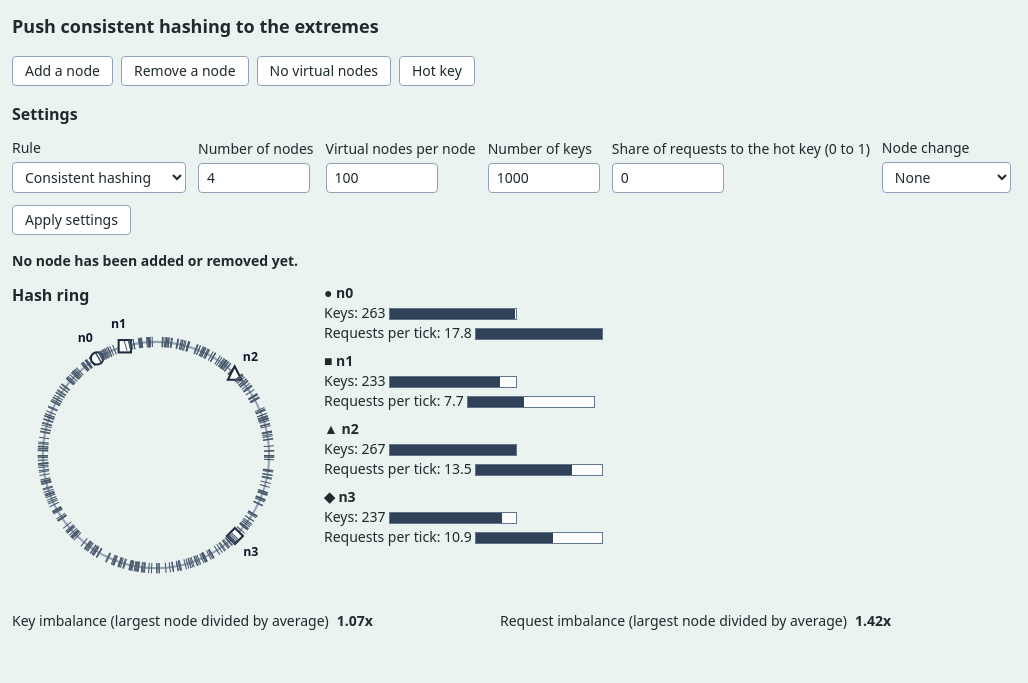
Test: HashingExtremePanel › refuses invalid settings with a message
Step 1. Replace the text in the number field labelled "Number of keys" with "0" → point(544, 178), box [488, 163, 600, 193]
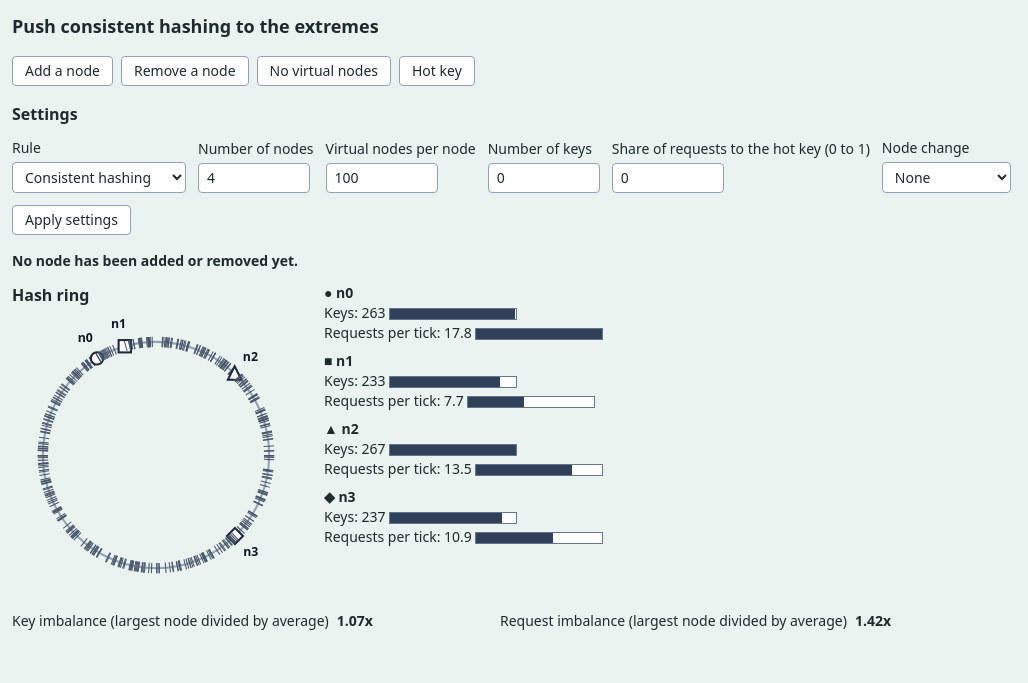
Step 2. Click the button "Apply settings" → point(71, 220), box [12, 205, 131, 235]
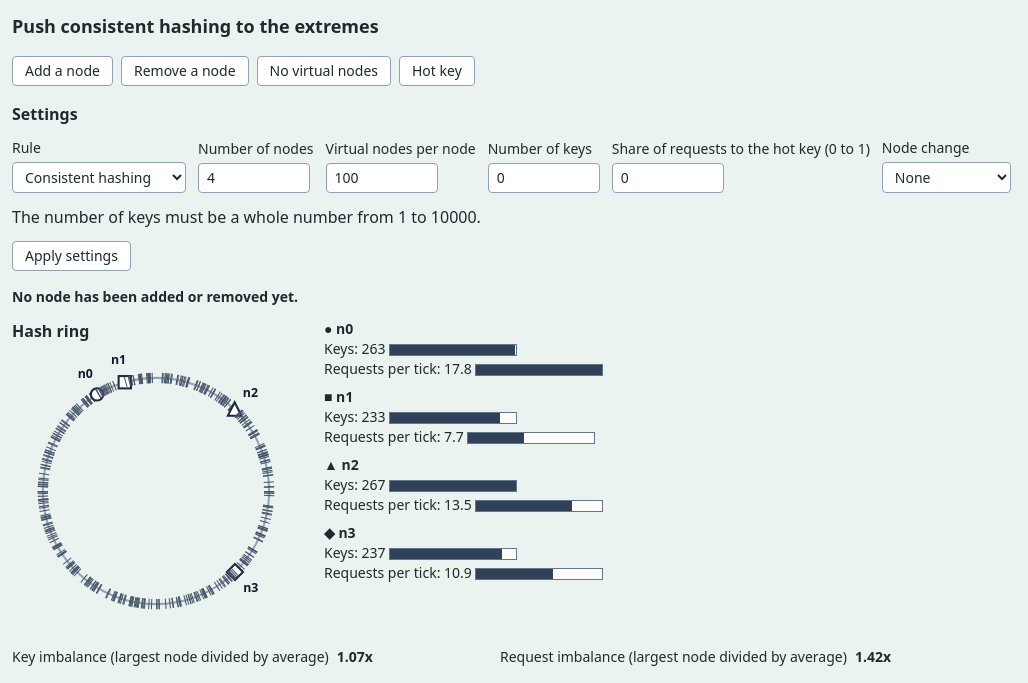
Expected: the message reads "The number of keys must be a whole number from 1 to 10000.", [12, 206, 481, 228]
